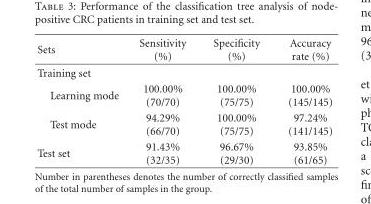table: (36, 36, 331, 165)
table column: (36, 36, 128, 165), (198, 36, 273, 165), (128, 36, 198, 165), (273, 36, 331, 165)
table column header: (36, 36, 331, 64)
table projected row header: (36, 64, 331, 80)
table row: (36, 80, 331, 109), (36, 109, 331, 138), (36, 36, 331, 64), (36, 138, 331, 165), (36, 64, 331, 80)
